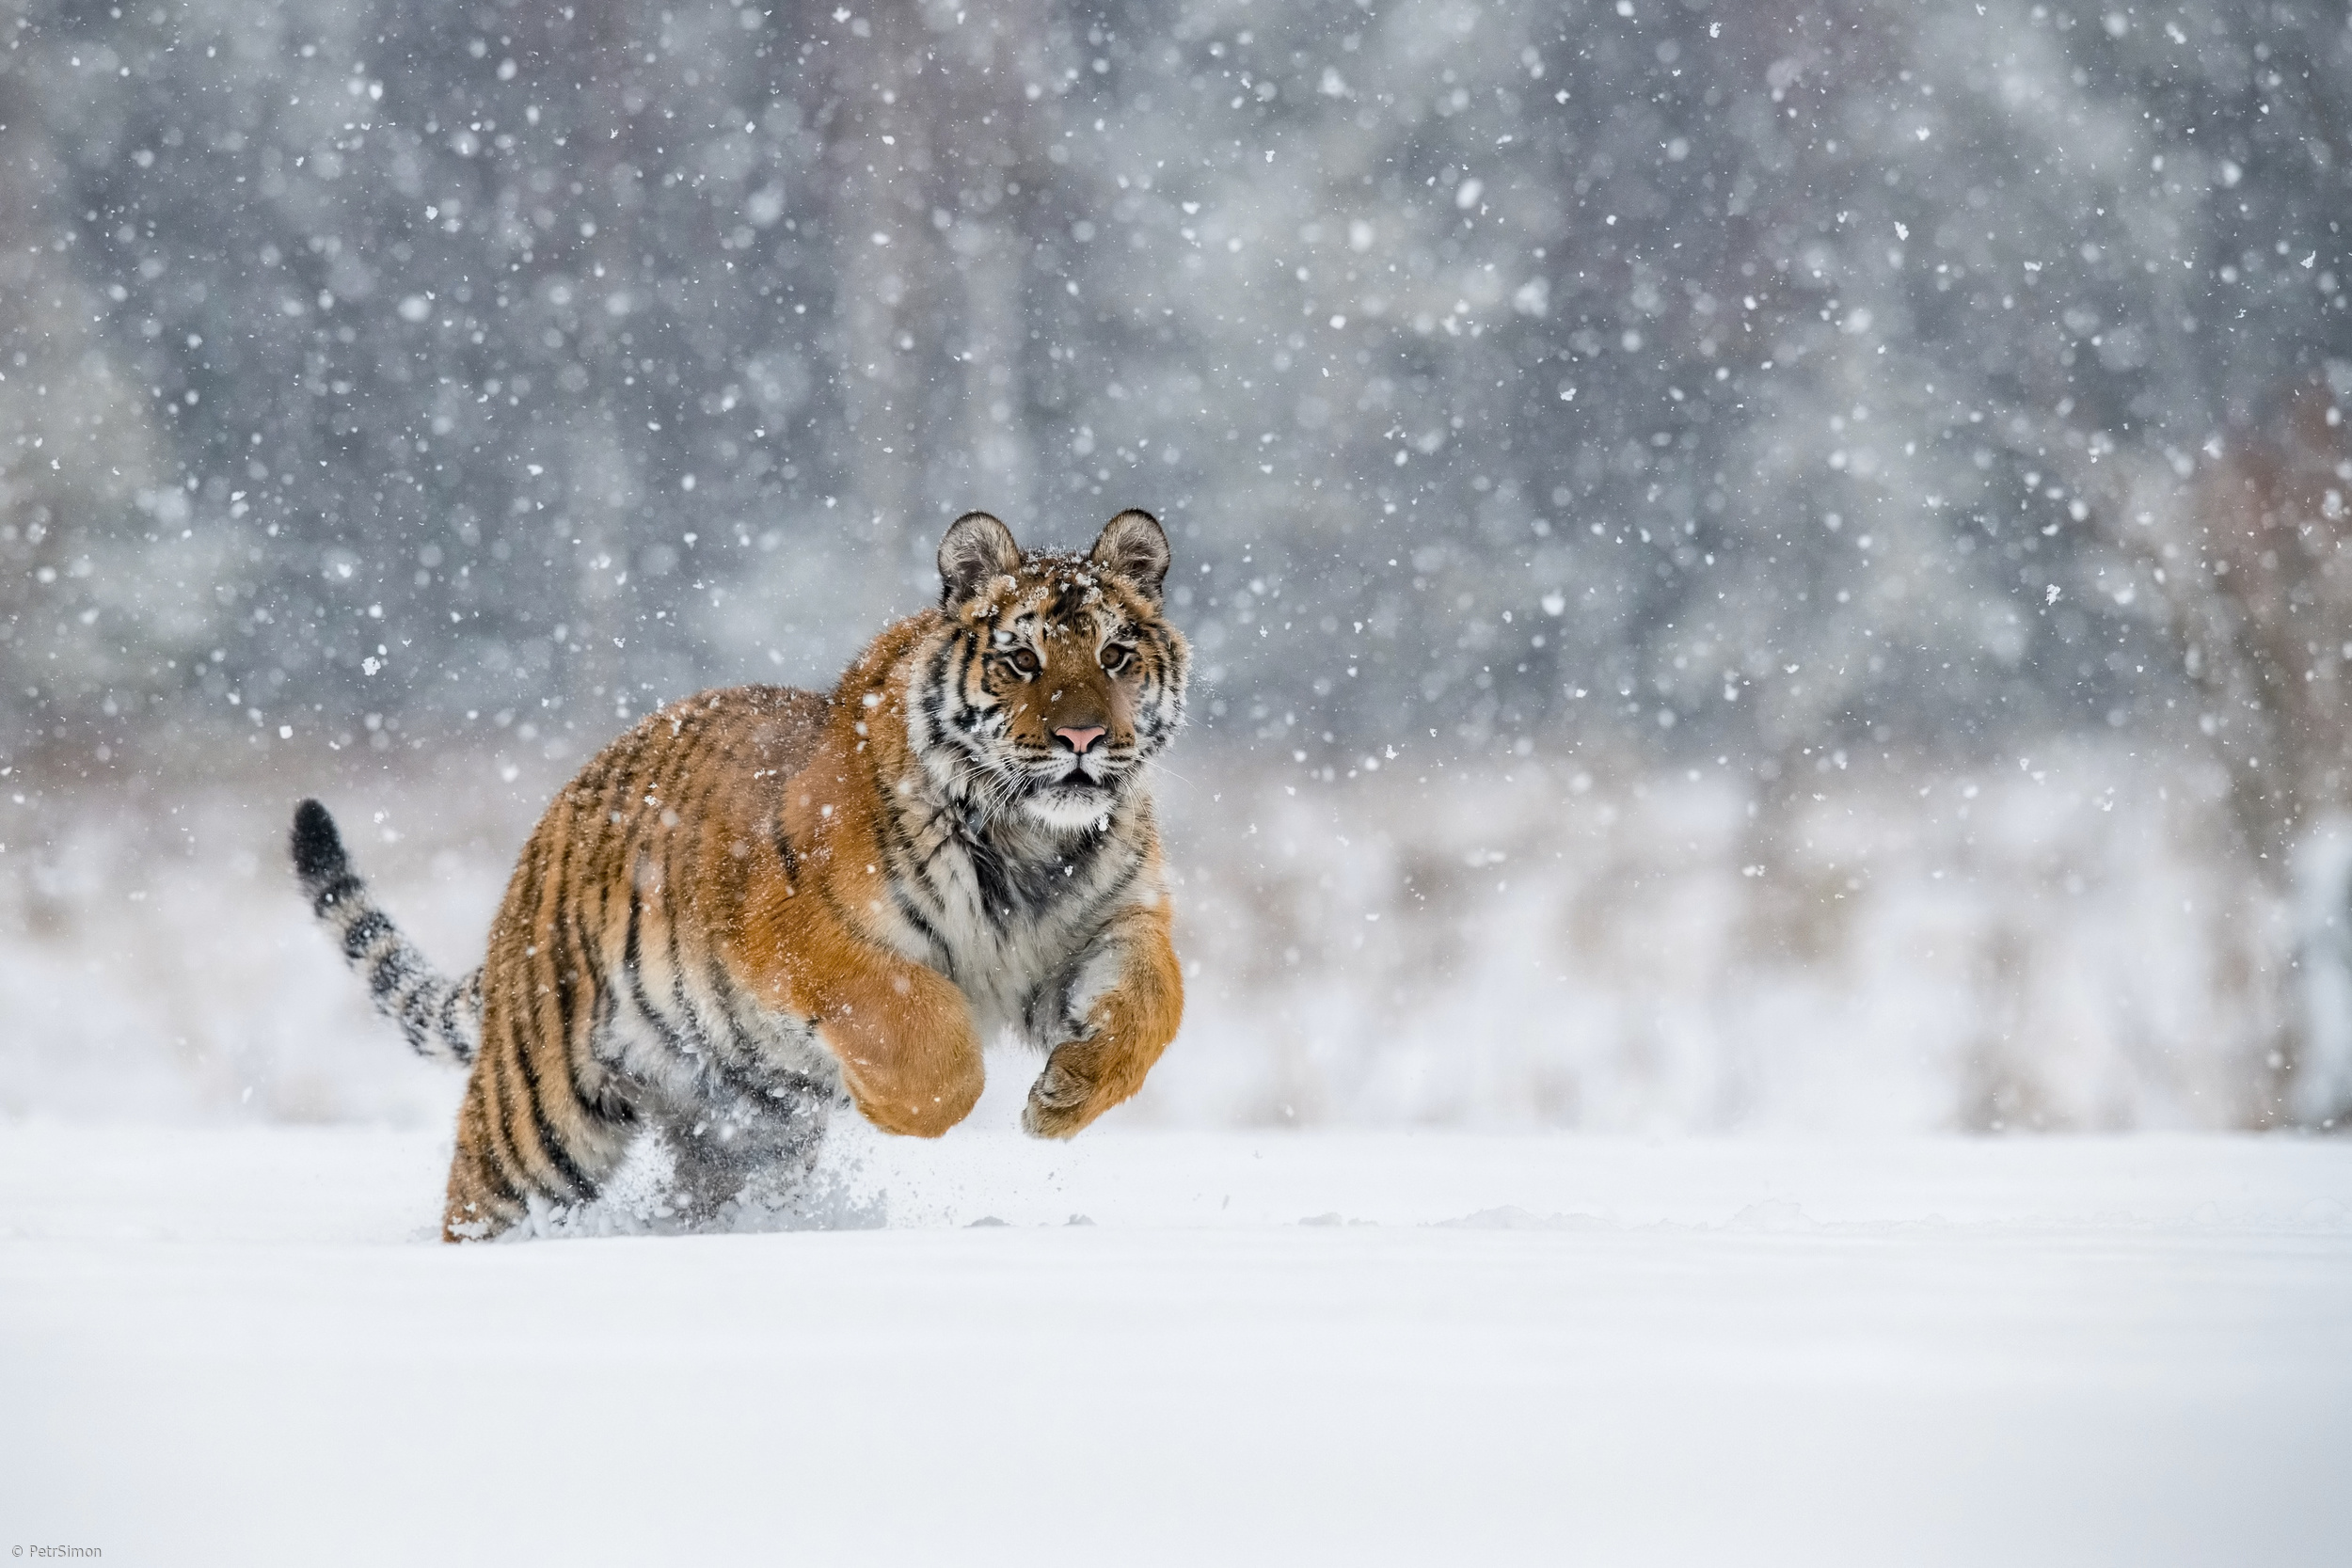tiger: (318, 500, 1209, 1207)
